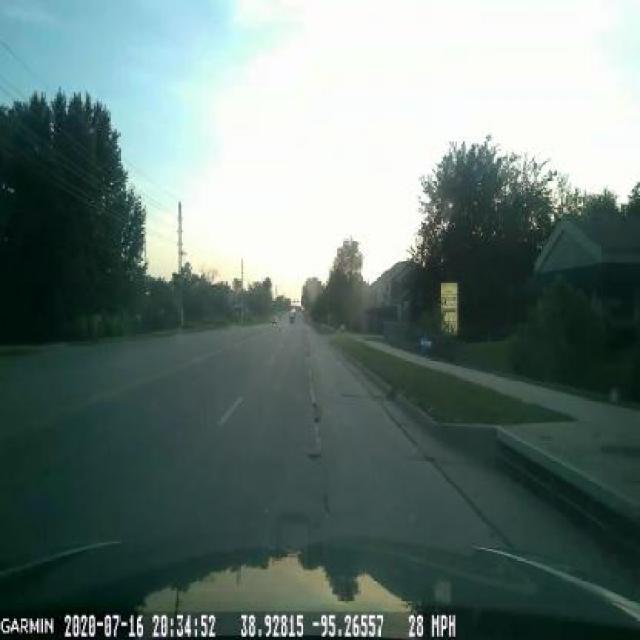Pothole: (306, 392, 328, 430), (304, 440, 322, 468)
